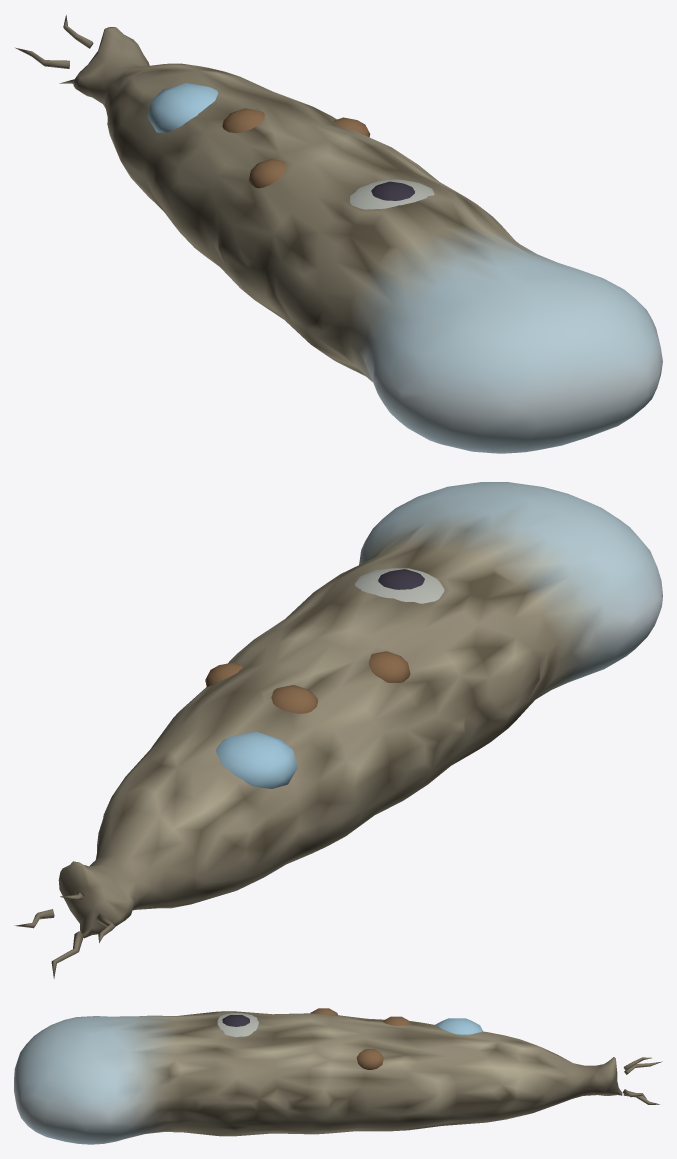
File: Naegleria.fbx
The picture shows the model from 3 angles, top to bottom: view 1: azimuth 30°, elevation 25°; view 2: azimuth 150°, elevation 25°; view 3: azimuth 270°, elevation 25°; orthographic projection. The views are drawn at different scales.
Visible parts, largest first — view 1: Naegleria; view 2: Naegleria; view 3: Naegleria.
Part boxes in pixels (x1,y1,x2,y2): Naegleria: [15, 15, 662, 453]; Naegleria: [14, 482, 662, 978]; Naegleria: [14, 1008, 662, 1144].
Bounding box in the file's own units: 0.5093 × 0.3171 × 1.7.
